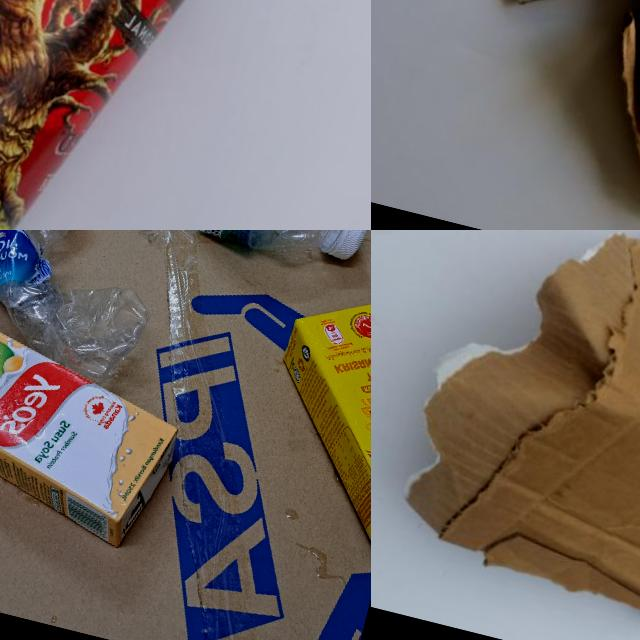caixinha: (0, 308, 194, 554), (238, 282, 371, 569)
garrafa de vidro: (0, 0, 240, 230)
garrafa plástica: (0, 230, 175, 393), (151, 230, 365, 266)
papelão: (0, 230, 371, 640), (390, 230, 640, 640), (423, 0, 640, 230)
tampa plástica: (327, 230, 370, 264)
